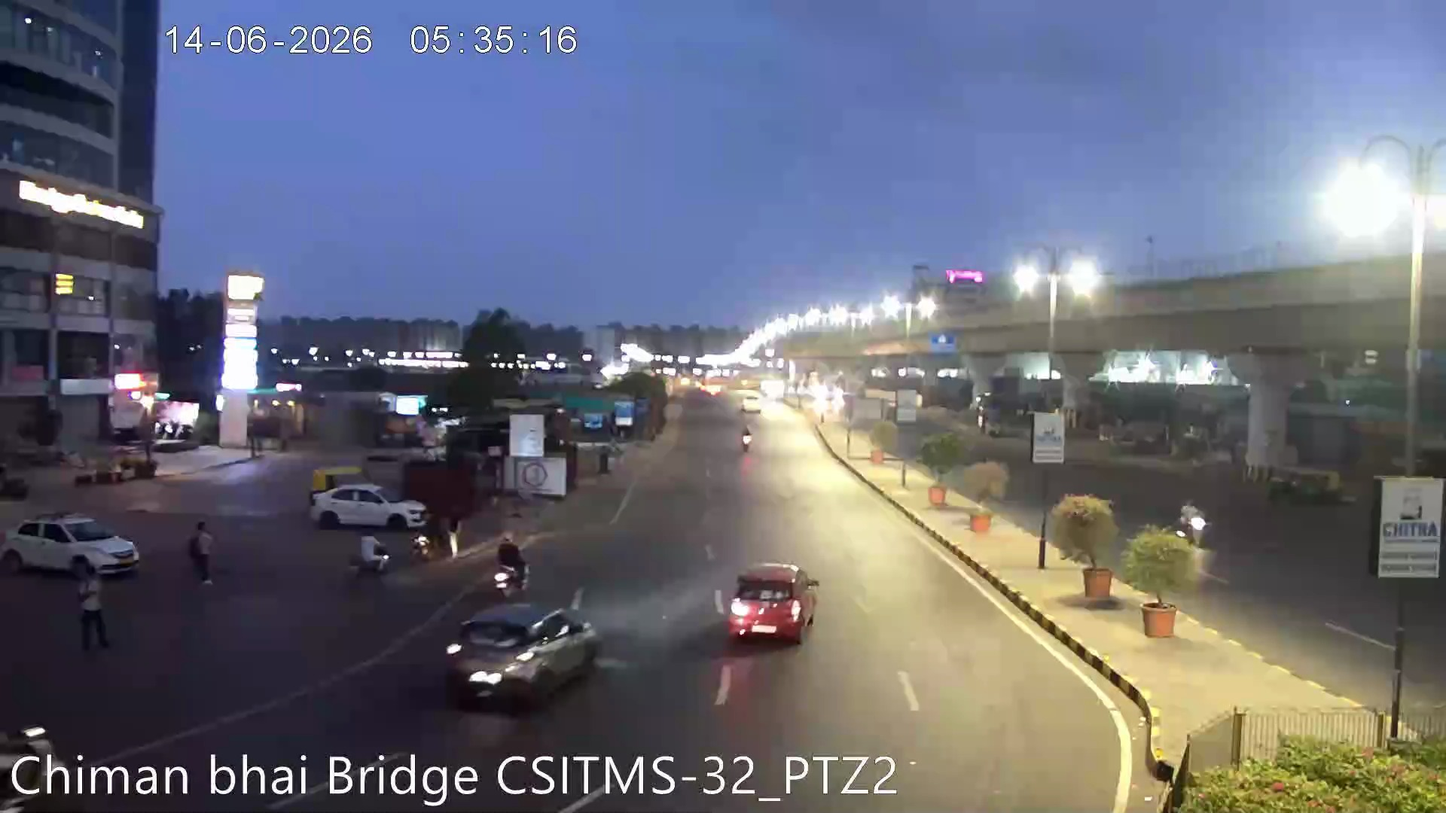auto_rickshaw: (1276, 465, 1347, 508)
car: (442, 601, 606, 705), (0, 506, 142, 580), (724, 558, 819, 643), (307, 475, 430, 532)
pedestrian: (72, 571, 110, 656), (181, 515, 221, 594)
two_wheeler: (484, 529, 535, 600), (1171, 491, 1218, 553), (345, 530, 393, 578), (735, 420, 758, 462)
